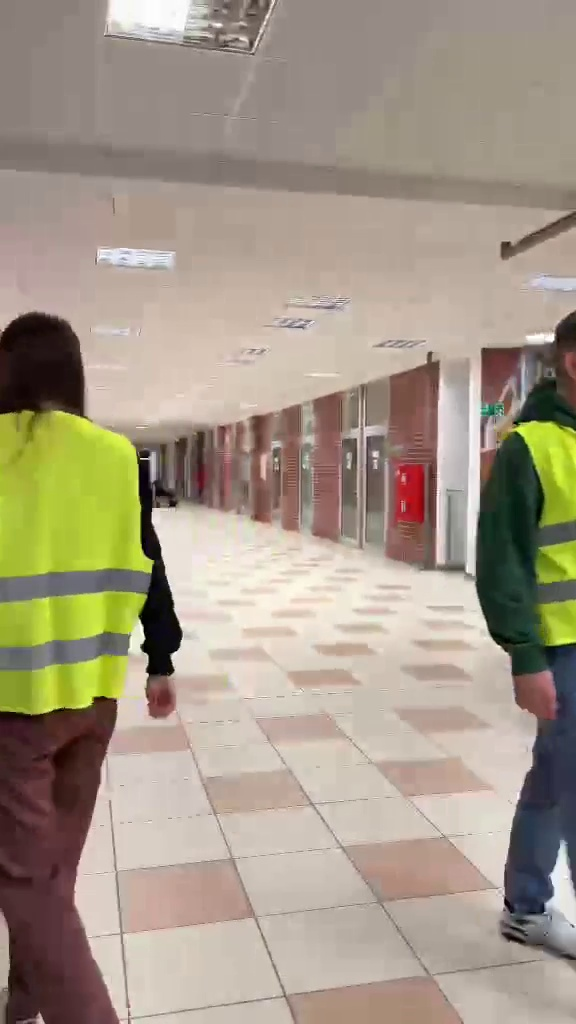vest: (0, 311, 187, 1001), (480, 313, 576, 962)
